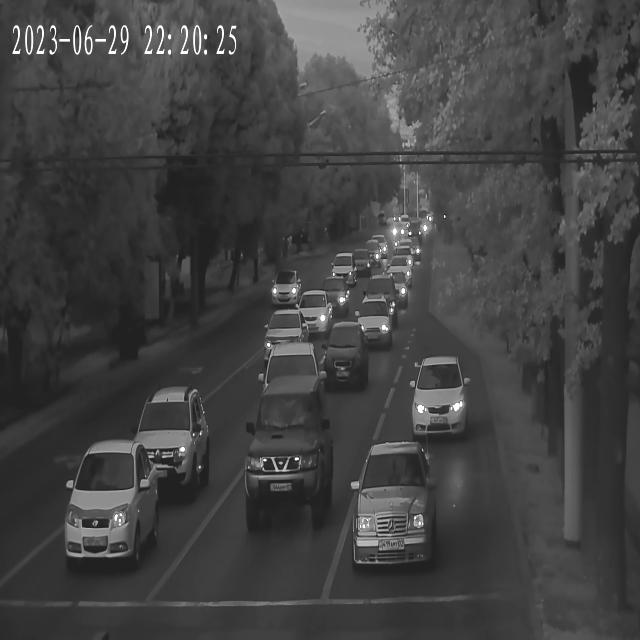Car: (64, 438, 159, 572), (348, 439, 432, 571), (248, 380, 336, 504), (127, 386, 213, 498), (408, 353, 469, 439), (261, 342, 332, 403), (308, 323, 368, 388), (260, 312, 314, 368), (342, 298, 392, 349), (359, 274, 403, 322), (291, 292, 337, 336), (311, 277, 351, 316), (270, 272, 305, 307), (378, 260, 413, 295), (332, 253, 360, 285), (347, 248, 374, 276), (356, 241, 384, 266), (395, 240, 421, 263), (364, 238, 387, 257)
